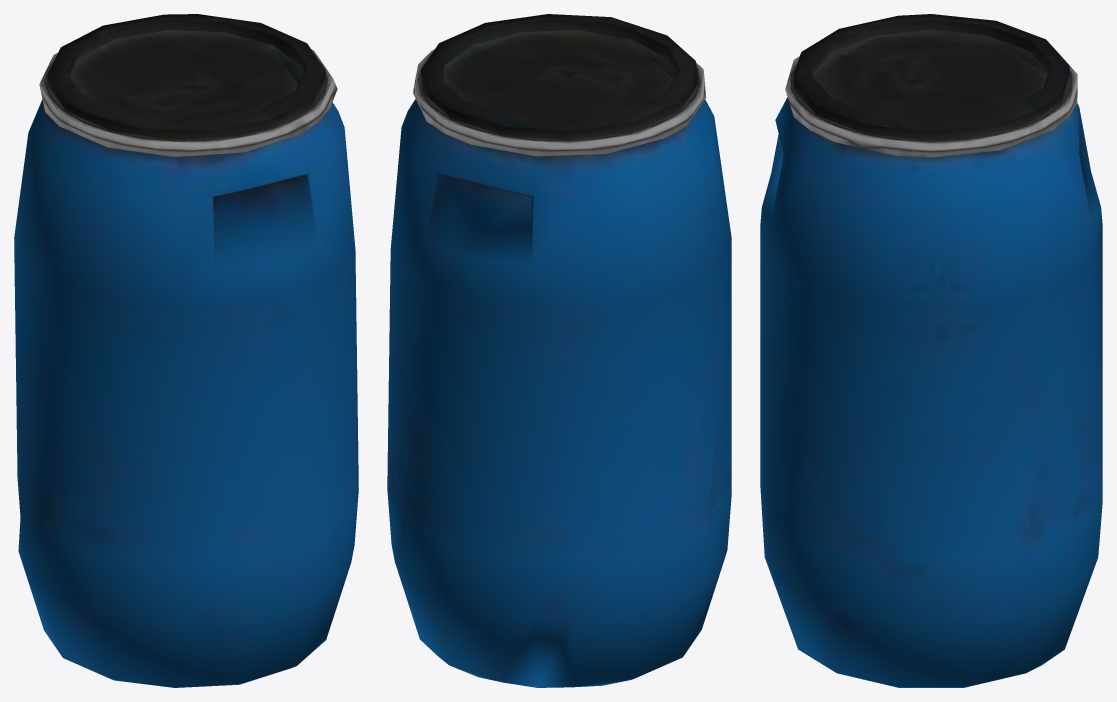
File: drumPlastic_lo.glb
3 views of the same model, side by side, from view 1: azimuth 30°, elevation 25°; view 2: azimuth 150°, elevation 25°; view 3: azimuth 270°, elevation 25° (orthographic).
Parts seen in each view (by area): view 1: Barrel_02; view 2: Barrel_02; view 3: Barrel_02.
Part boxes in pixels (<box>): Barrel_02: <box>14,14,358,687</box>; Barrel_02: <box>387,14,731,687</box>; Barrel_02: <box>760,14,1102,687</box>.
Bounding box in the file's own units: 0.4882 × 0.88 × 0.4846.
Materials: 1 (1 with a texture image).
